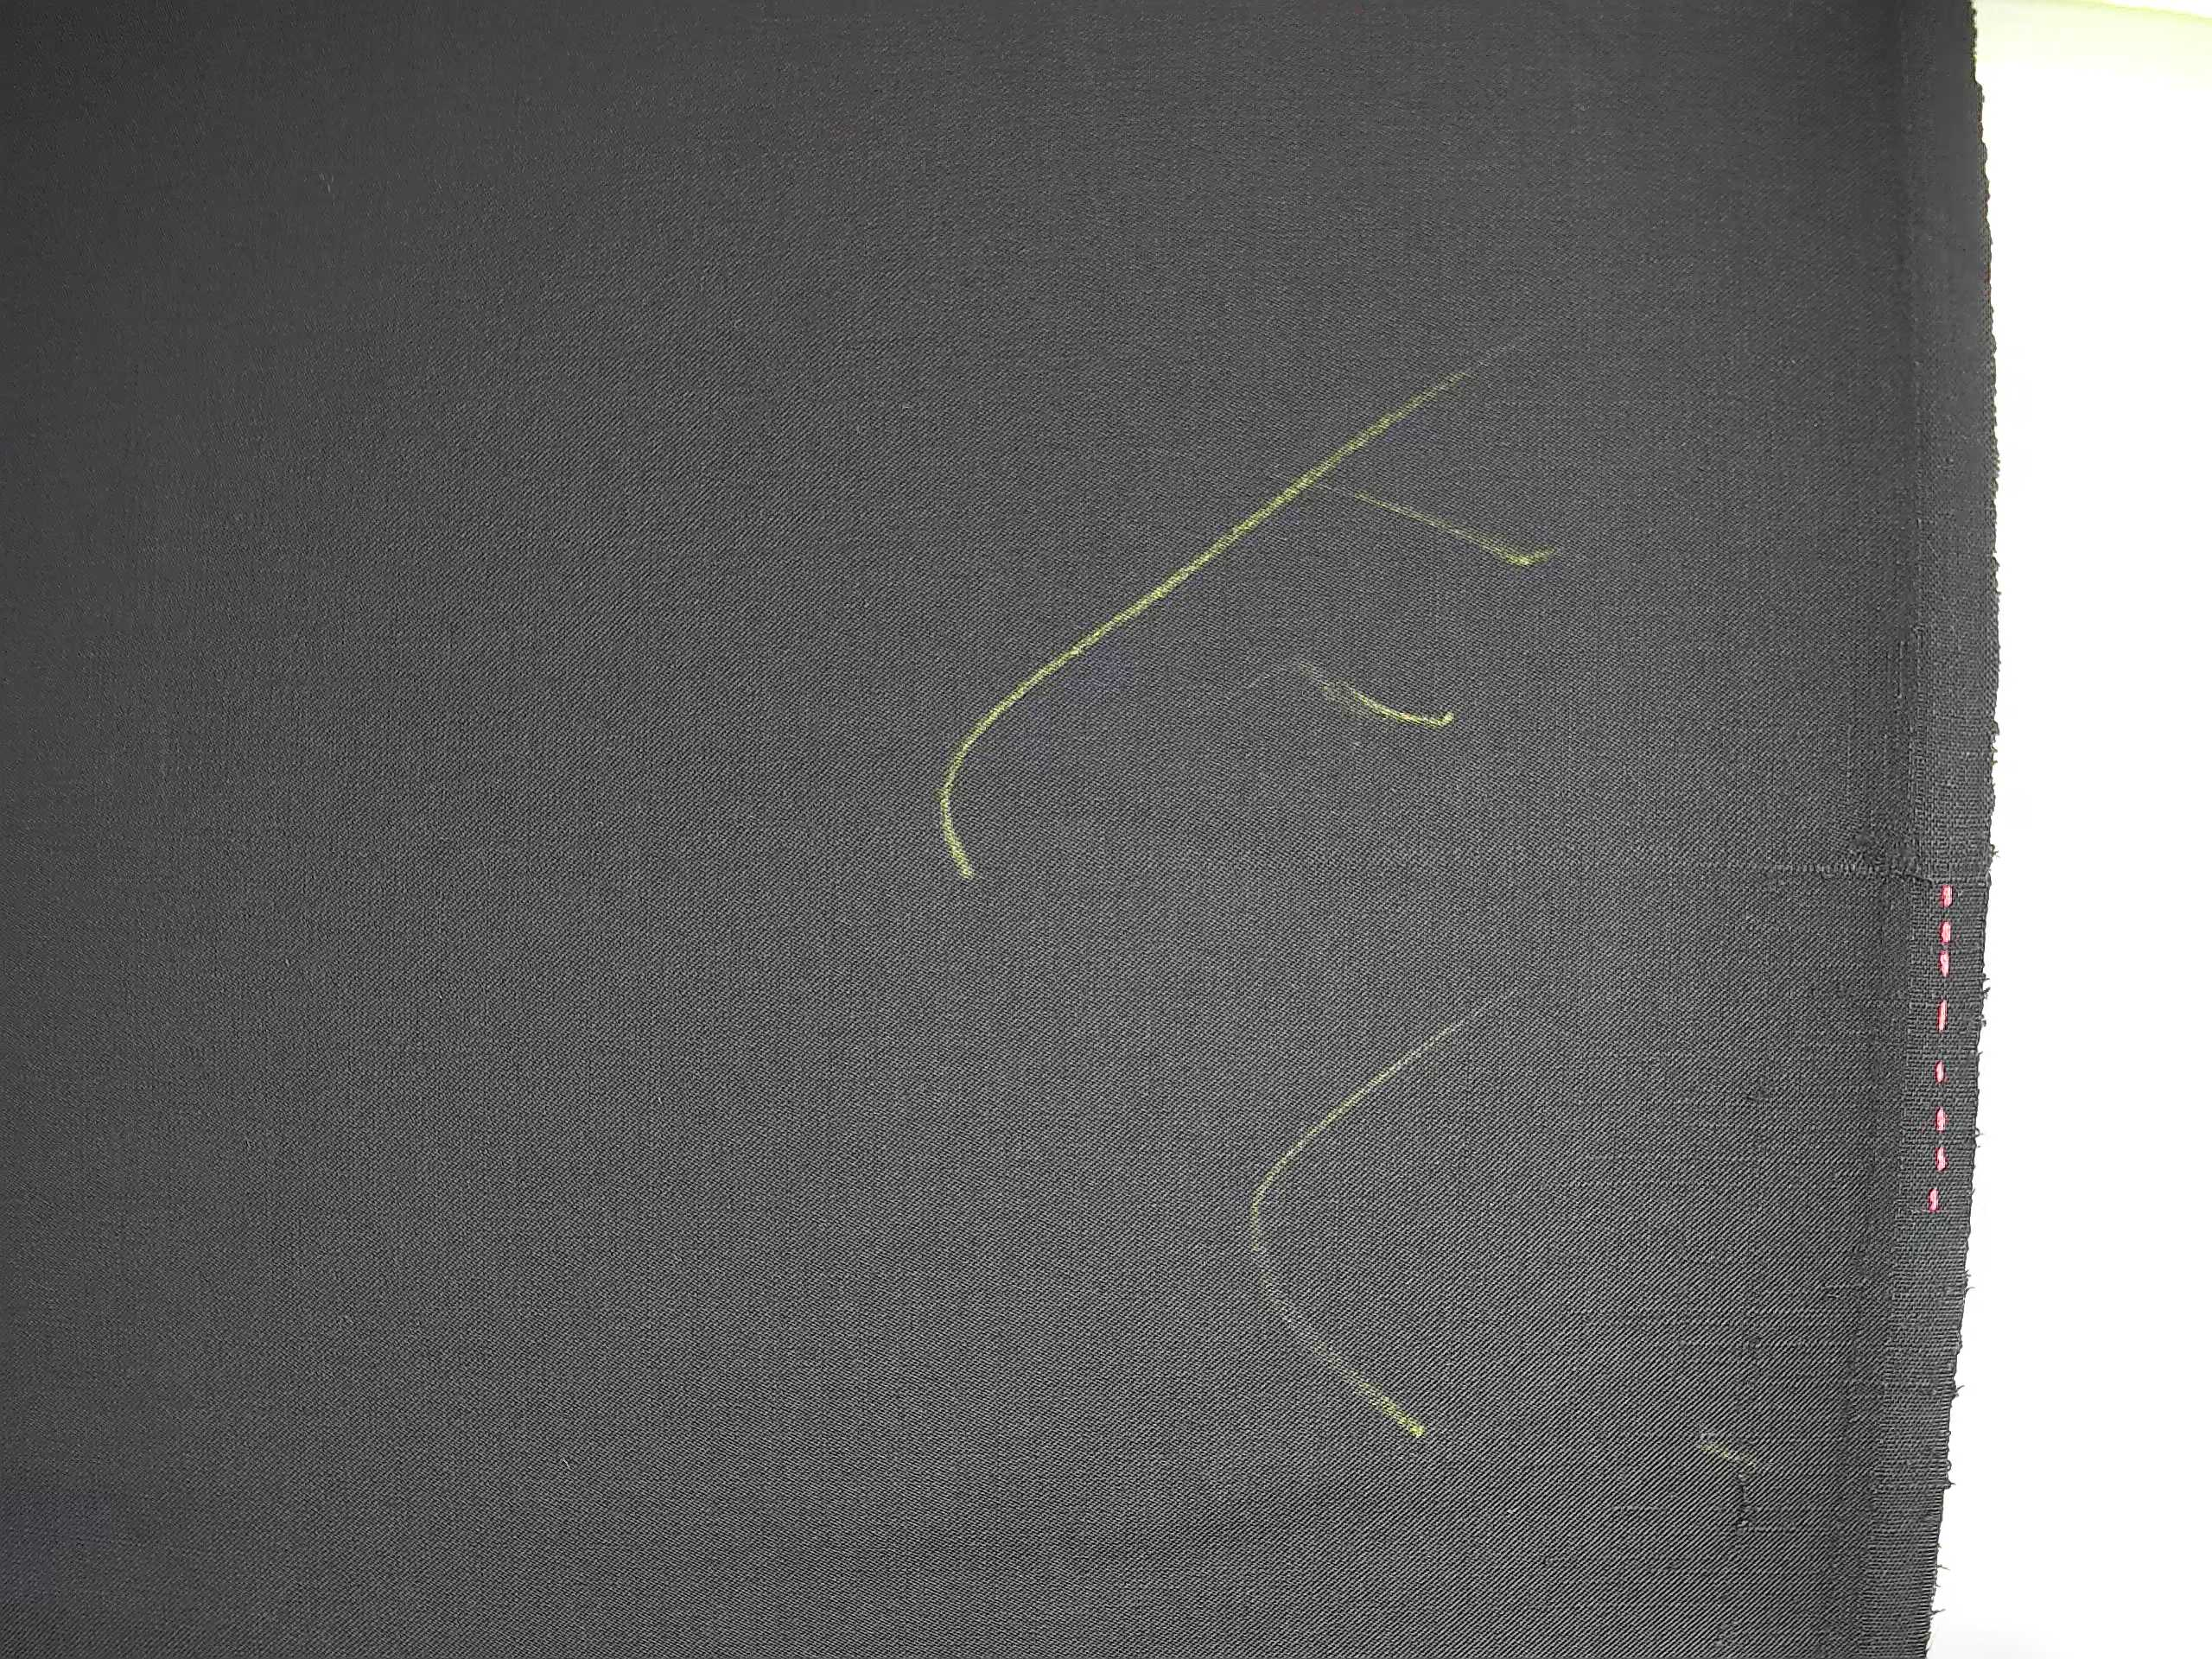jumps: (1341, 805, 1972, 906), (1710, 1028, 1787, 1570)
